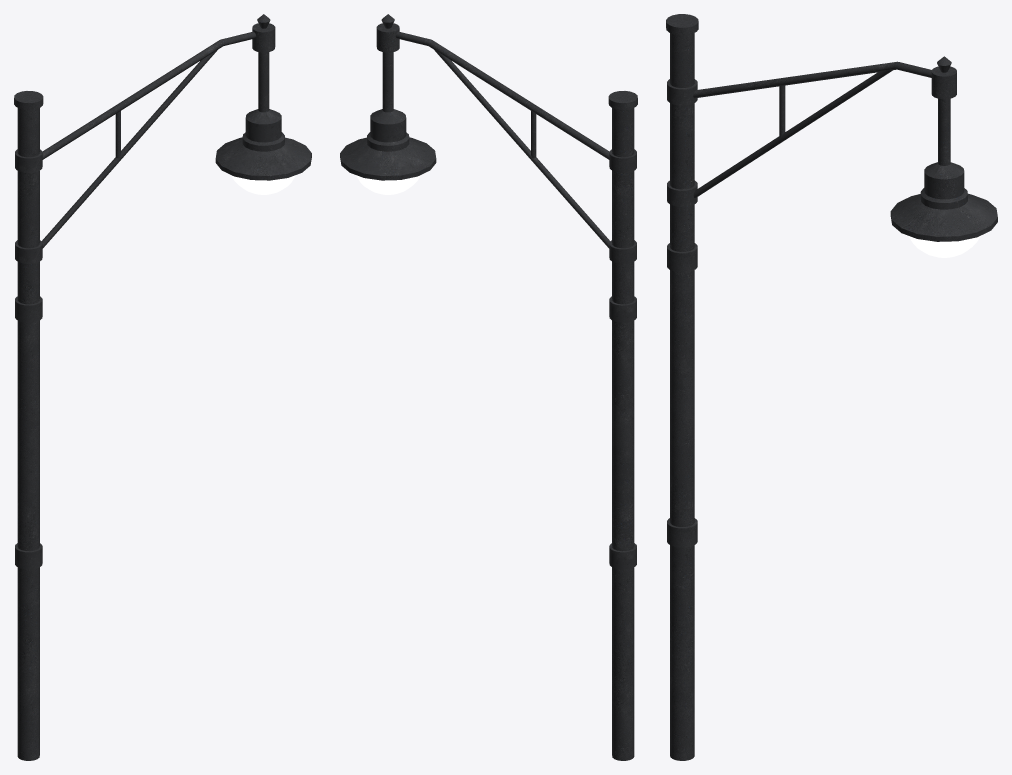
The model's file is RoadLight_5.fbx.
3 views of the same model, side by side, from view 1: azimuth 30°, elevation 25°; view 2: azimuth 150°, elevation 25°; view 3: azimuth 330°, elevation 25° (orthographic). The views are drawn at different scales.
Parts seen in each view (by area): view 1: RoadLight_5; view 2: RoadLight_5; view 3: RoadLight_5.
Part boxes in pixels (box(x1,y1,x2,y2)): RoadLight_5: box(14, 14, 311, 760); RoadLight_5: box(340, 14, 637, 760); RoadLight_5: box(666, 14, 997, 760).
Size of the model in its own units: 2.8 by 6.32 by 0.8113.
